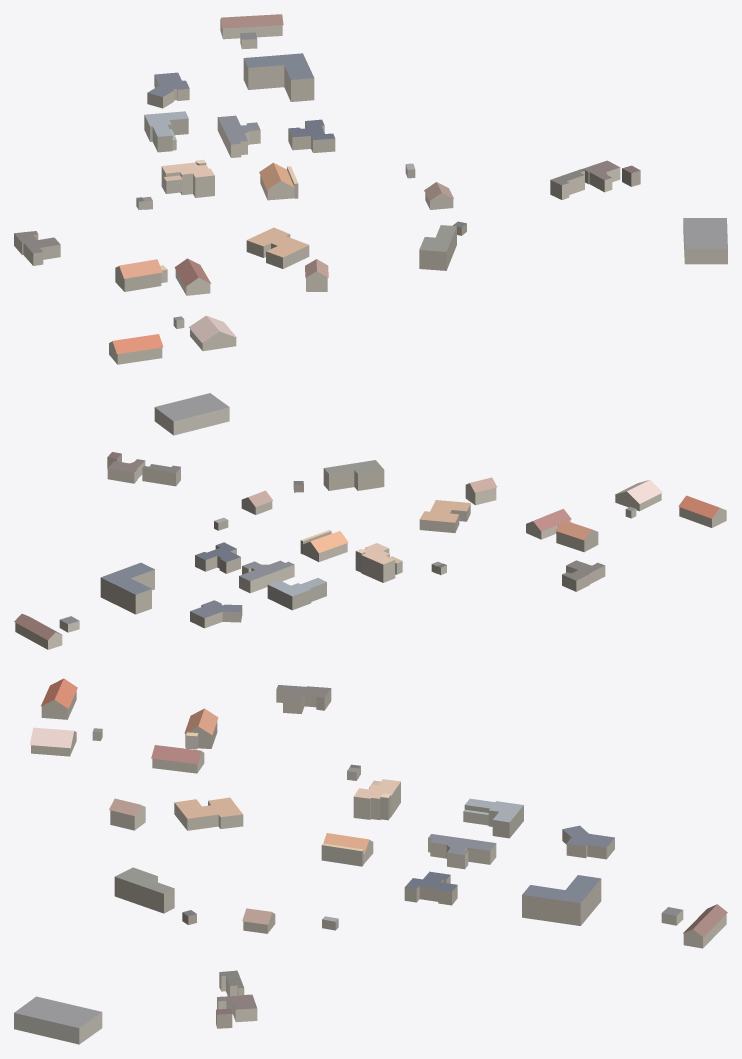
3 renders of one model, top to bottom at view 1: azimuth 30°, elevation 25°; view 2: azimuth 150°, elevation 25°; view 3: azimuth 270°, elevation 25°, orthographic. The views are drawn at different scales.
Parts seen in each view (by area): view 1: tuile; view 2: tuile; view 3: tuile.
Part boxes in pixels (box(x1,y1,x2,y2)): tuile: box(14, 14, 727, 364); tuile: box(14, 393, 726, 649); tuile: box(14, 678, 727, 1044).
Size of the model in its own units: 264 by 23.22 by 252.
